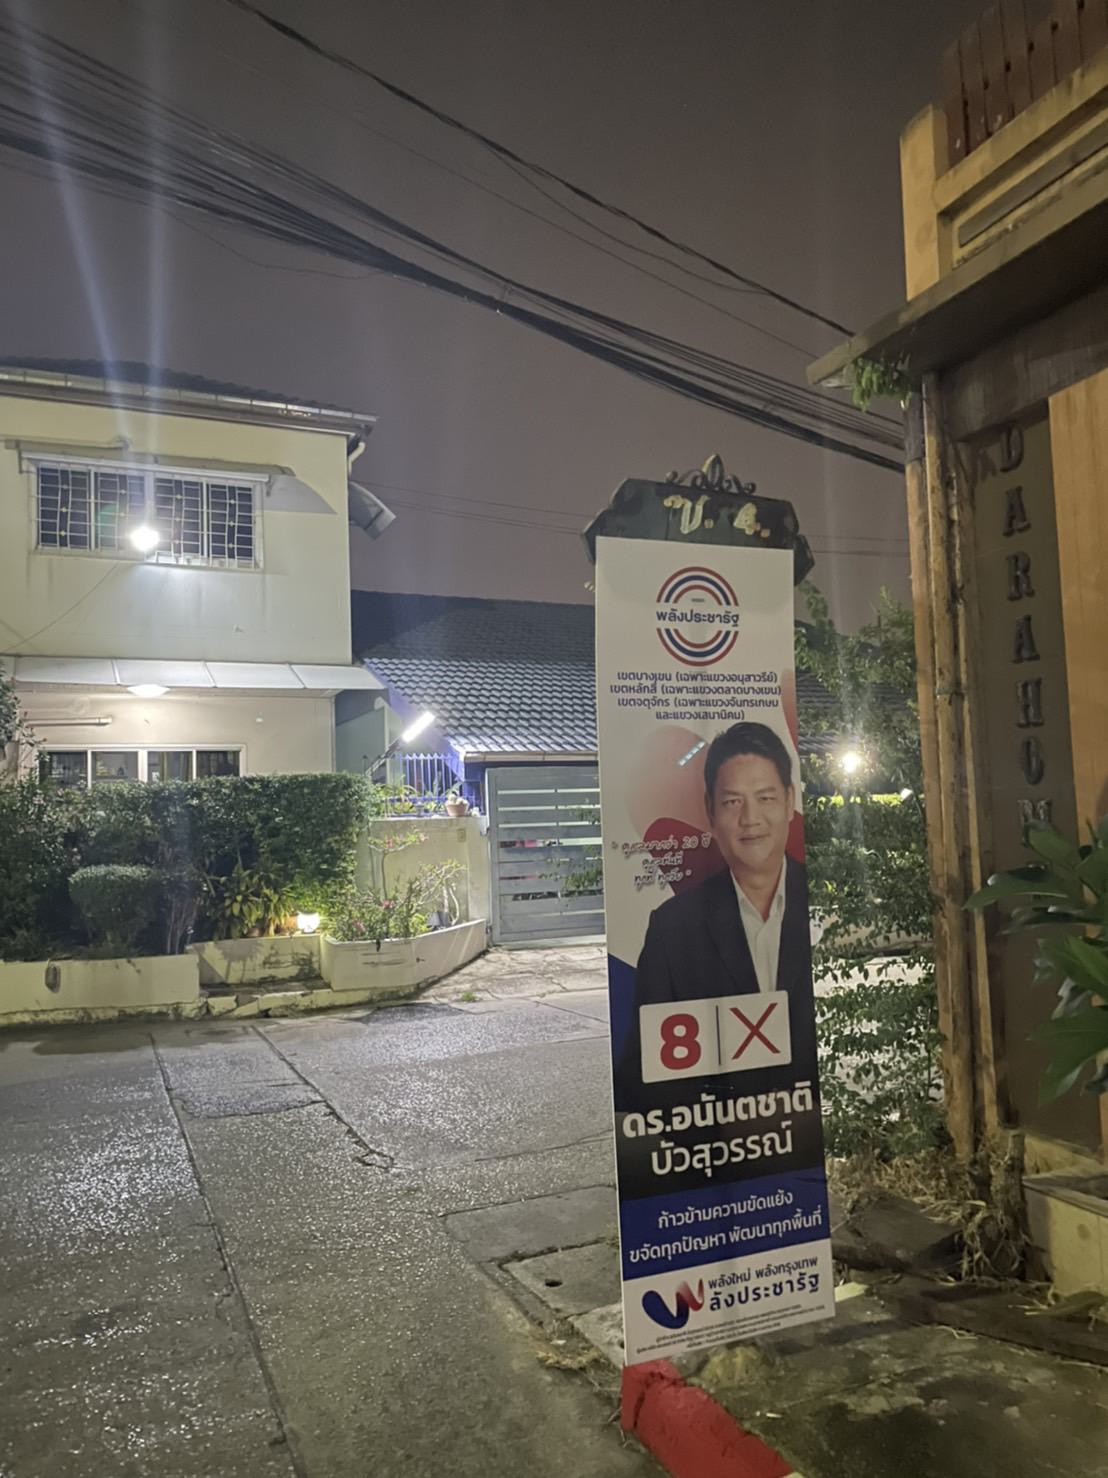Banner: (585, 537, 850, 1353)
